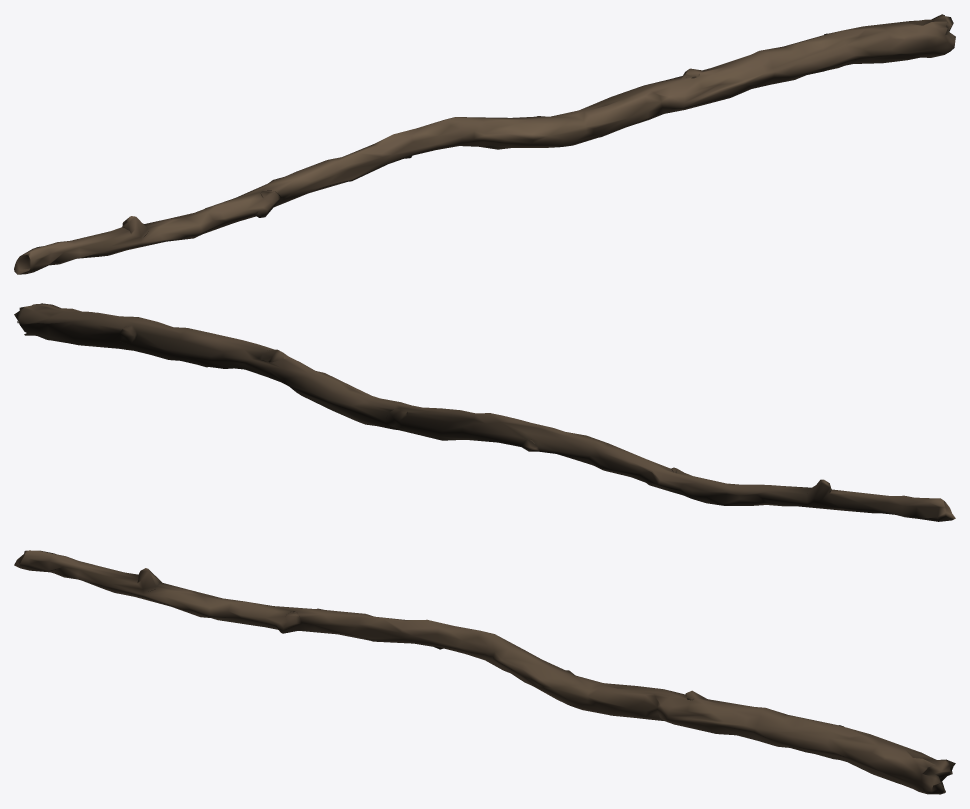
Rendered from trees-dead-trees-wood-dead-branch_v2.glb.
3 views of the same model, one above another, from view 1: azimuth 30°, elevation 25°; view 2: azimuth 150°, elevation 25°; view 3: azimuth 330°, elevation 25° (orthographic). The views are drawn at different scales.
Parts seen in each view (by area): view 1: Dead Branch_v2; view 2: Dead Branch_v2; view 3: Dead Branch_v2.
Part boxes in pixels (left/top/right/bottom): Dead Branch_v2: left=14, top=14, right=955, bottom=274; Dead Branch_v2: left=14, top=303, right=955, bottom=521; Dead Branch_v2: left=14, top=550, right=955, bottom=794.
Size of the model in its own units: 1.5 by 0.0753 by 0.1137.
